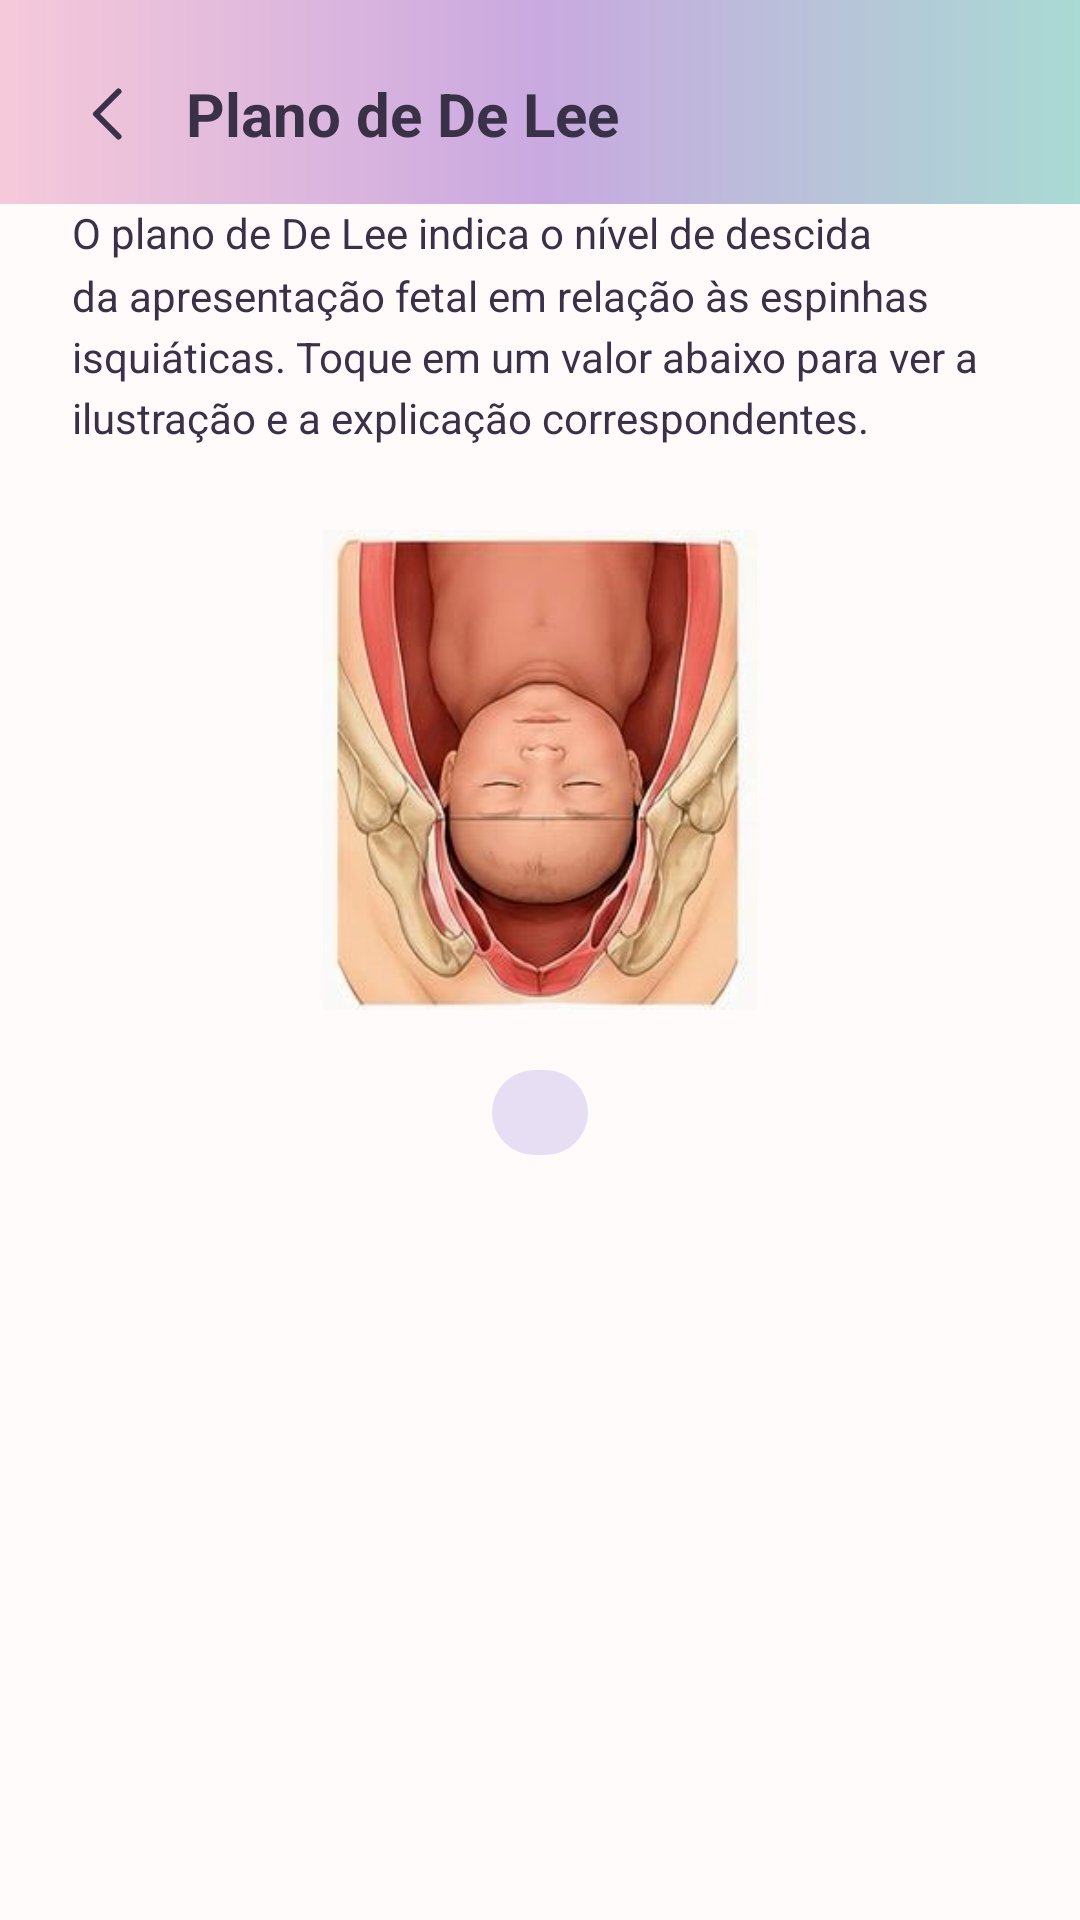

Icons on this 1080px×1920px Android screen, each with the point to tap as [x,y]:
back: [107,114]
